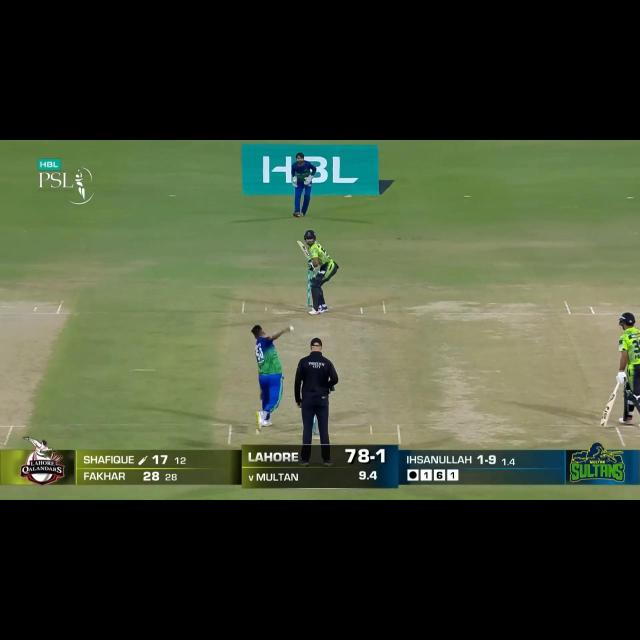bat: (599, 394, 616, 427), (295, 239, 311, 259)
toe: (599, 418, 608, 426), (296, 240, 303, 246)
